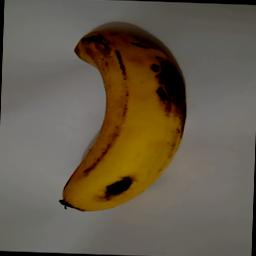Banana Unripe: (67, 24, 192, 206)
